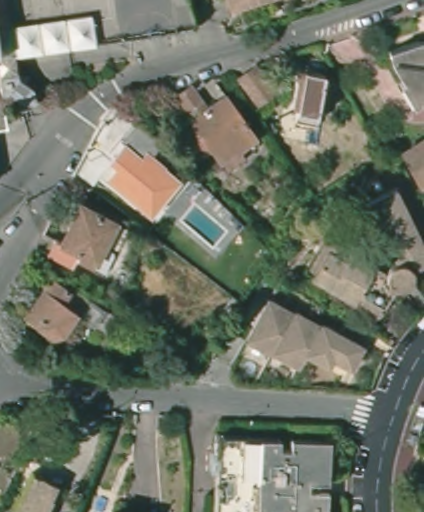pool: (177, 200, 231, 250)
